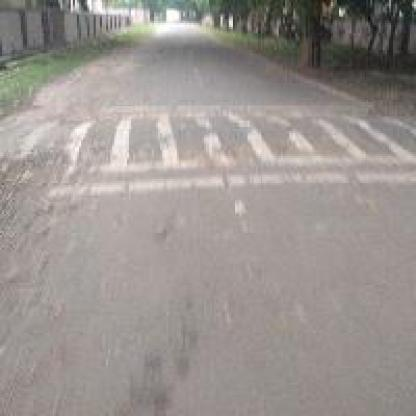Speed Bump: (46, 102, 414, 198)
